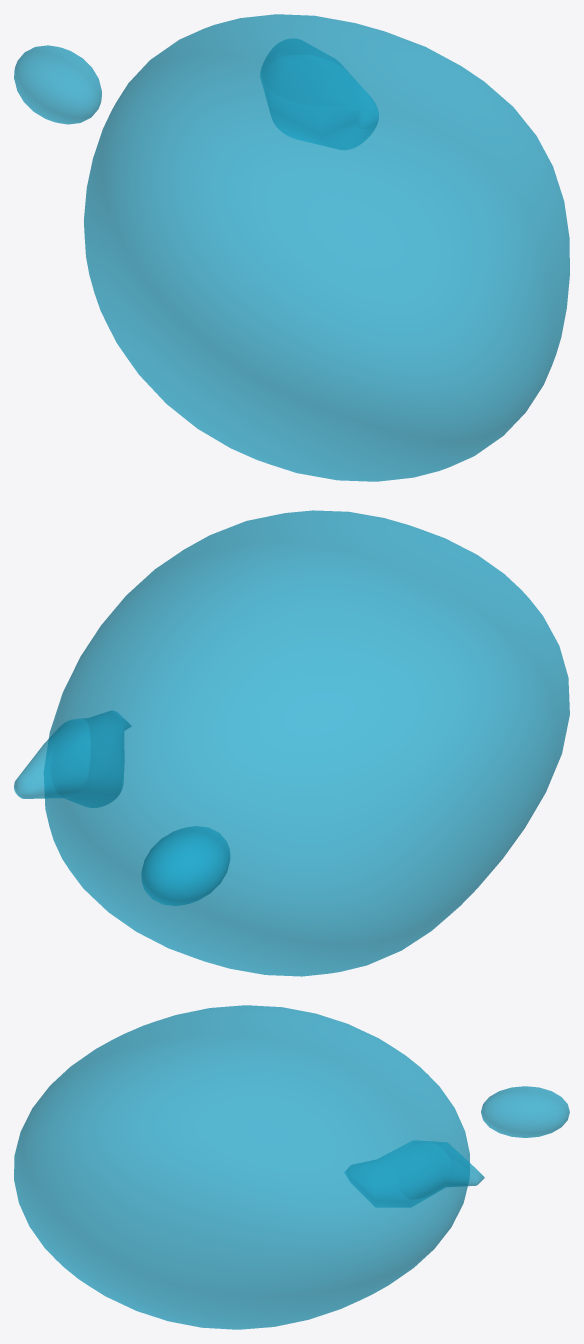
File: enemy-direct-waterball-v2.glb
3 views of the same model, one above another, from view 1: azimuth 30°, elevation 25°; view 2: azimuth 150°, elevation 25°; view 3: azimuth 270°, elevation 25° (orthographic). The views are drawn at different scales.
Parts seen in each view (by area): view 1: WaterBulb, ShortFluidTail, WakeDroplet; view 2: WaterBulb, ShortFluidTail, WakeDroplet; view 3: WaterBulb, ShortFluidTail, WakeDroplet.
Boxes of the visible parts, bbox=[...] form: WaterBulb: bbox=[84, 14, 569, 481]; ShortFluidTail: bbox=[260, 39, 378, 149]; WakeDroplet: bbox=[14, 45, 101, 124]; WaterBulb: bbox=[44, 510, 569, 976]; ShortFluidTail: bbox=[14, 711, 131, 807]; WakeDroplet: bbox=[141, 826, 230, 906]; WaterBulb: bbox=[14, 1005, 469, 1329]; ShortFluidTail: bbox=[344, 1140, 484, 1207]; WakeDroplet: bbox=[481, 1086, 569, 1137].
Bounding box in the file's own units: 1.07 × 1.02 × 1.77.
